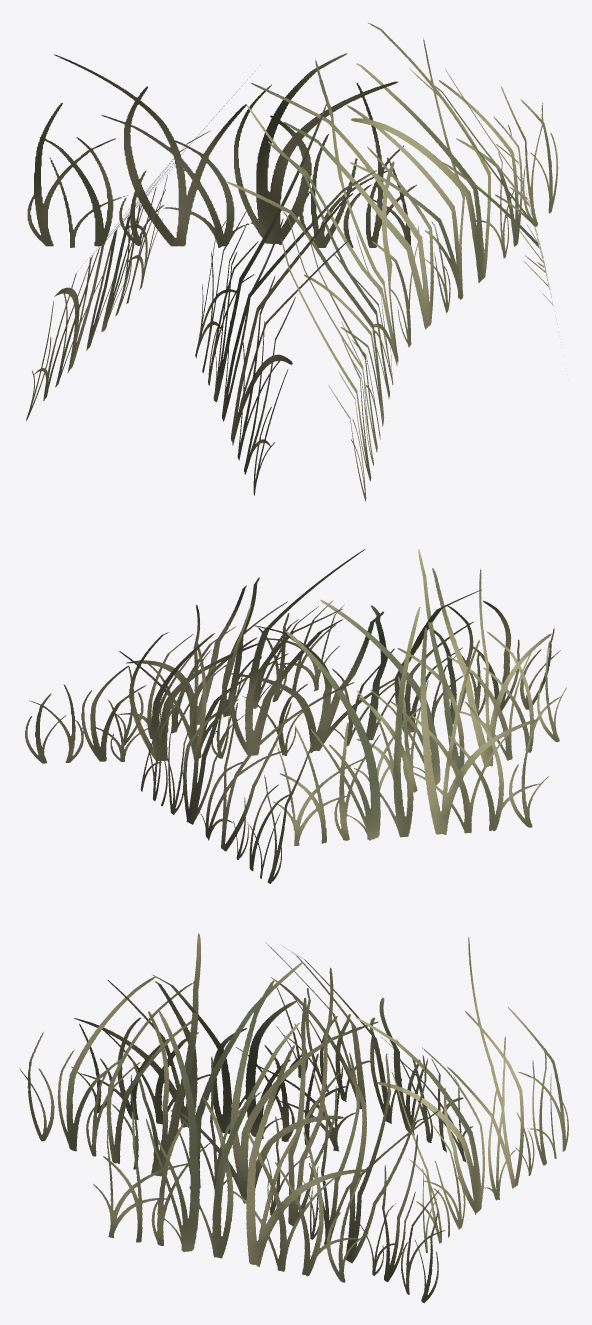
The model's file is Grass - Grass1 2-i6vsBAF-.glb.
3 views of the same model, one above another, from view 1: azimuth 30°, elevation 25°; view 2: azimuth 150°, elevation 25°; view 3: azimuth 270°, elevation 25° (orthographic). The views are drawn at different scales.
Visible parts, largest first — view 1: Grass1_2_LOD0; view 2: Grass1_2_LOD0; view 3: Grass1_2_LOD0.
Boxes of the visible parts, x1,y1,x2,y2 form: Grass1_2_LOD0: (26, 23, 558, 501); Grass1_2_LOD0: (25, 549, 566, 883); Grass1_2_LOD0: (19, 933, 568, 1303).
Size of the model in its own units: 0.8928 by 0.3503 by 0.8702.
Materials: 1 (1 with a texture image).
